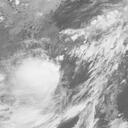cyclone: (11, 56, 58, 102)
